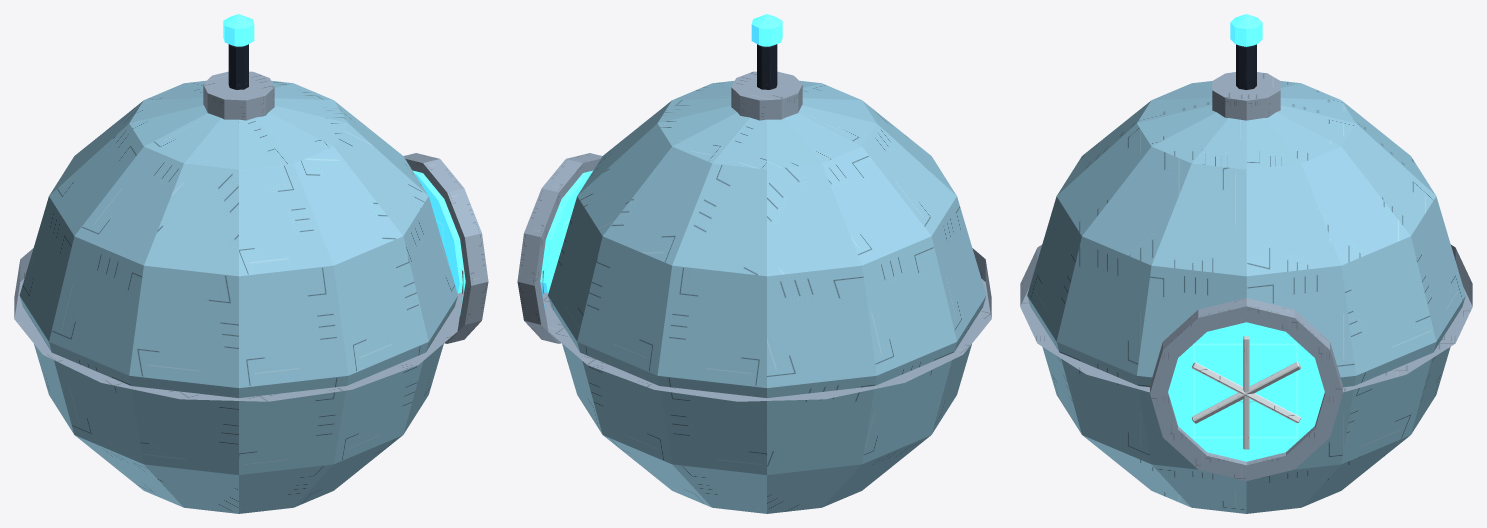
File: frost.glb
3 renders of one model, left to right at view 1: azimuth 30°, elevation 25°; view 2: azimuth 150°, elevation 25°; view 3: azimuth 270°, elevation 25°, orthographic.
Parts seen in each view (by area): view 1: body, fuse; view 2: body, fuse; view 3: body, fuse.
Boxes of the visible parts, x1,y1,x2,y2 form: body: (14, 71, 488, 513); fuse: (223, 14, 254, 89); body: (517, 71, 991, 513); fuse: (751, 14, 782, 89); body: (1020, 72, 1472, 513); fuse: (1230, 14, 1262, 89).
Bounding box in the file's own units: 0.3466 × 0.3987 × 0.3406.
5 materials, 5 textured.
